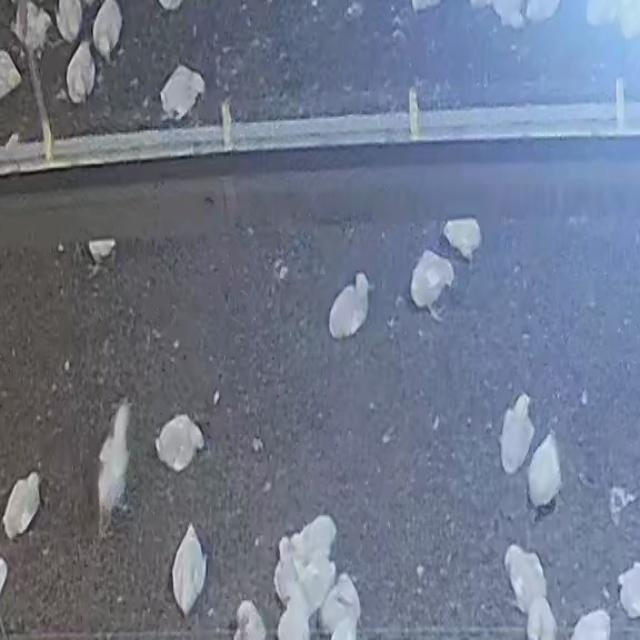chicken: (96, 398, 132, 534), (292, 511, 339, 586), (172, 523, 207, 619), (327, 270, 374, 341), (411, 247, 456, 318), (319, 573, 365, 640), (291, 557, 334, 625), (505, 544, 547, 613), (155, 415, 204, 473), (499, 395, 533, 476), (527, 432, 561, 510), (158, 63, 205, 119), (2, 473, 40, 541), (274, 535, 305, 613), (10, 3, 51, 54), (66, 40, 97, 102), (92, 0, 123, 60), (442, 217, 482, 260), (233, 601, 268, 639), (618, 563, 640, 620), (55, 1, 84, 44), (570, 609, 611, 639), (609, 486, 637, 526)
